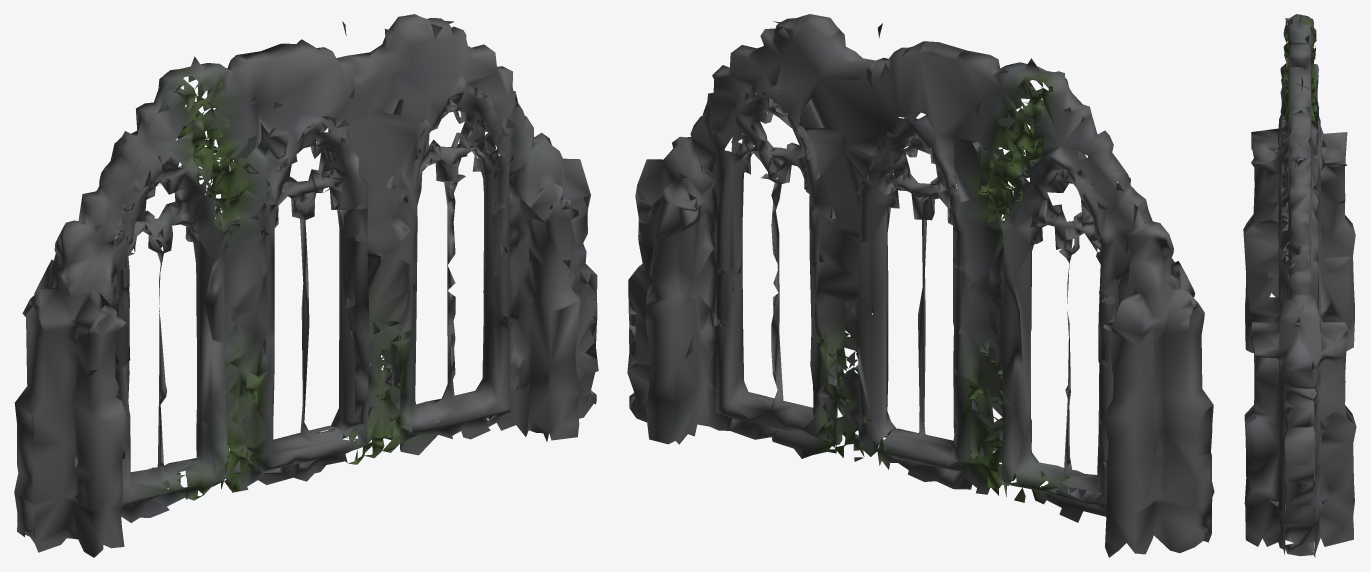
Rendered from hero_wall_lod1.glb.
The picture shows the model from 3 angles, left to right: view 1: azimuth 30°, elevation 25°; view 2: azimuth 150°, elevation 25°; view 3: azimuth 270°, elevation 25°; orthographic projection. The views are drawn at different scales.
Visible parts, largest first — view 1: hero_wall; view 2: hero_wall; view 3: hero_wall.
Boxes of the visible parts, box(x1,y1,x2,y2) form: hero_wall: box(14, 14, 598, 557); hero_wall: box(627, 14, 1214, 557); hero_wall: box(1243, 14, 1356, 557).
Size of the model in its own units: 2.29 by 1.74 by 0.4633.
